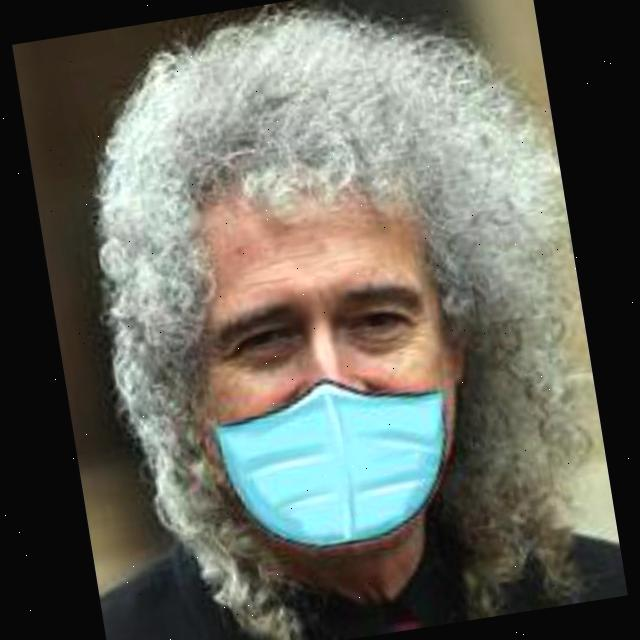suspicion: (152, 144, 499, 554)
